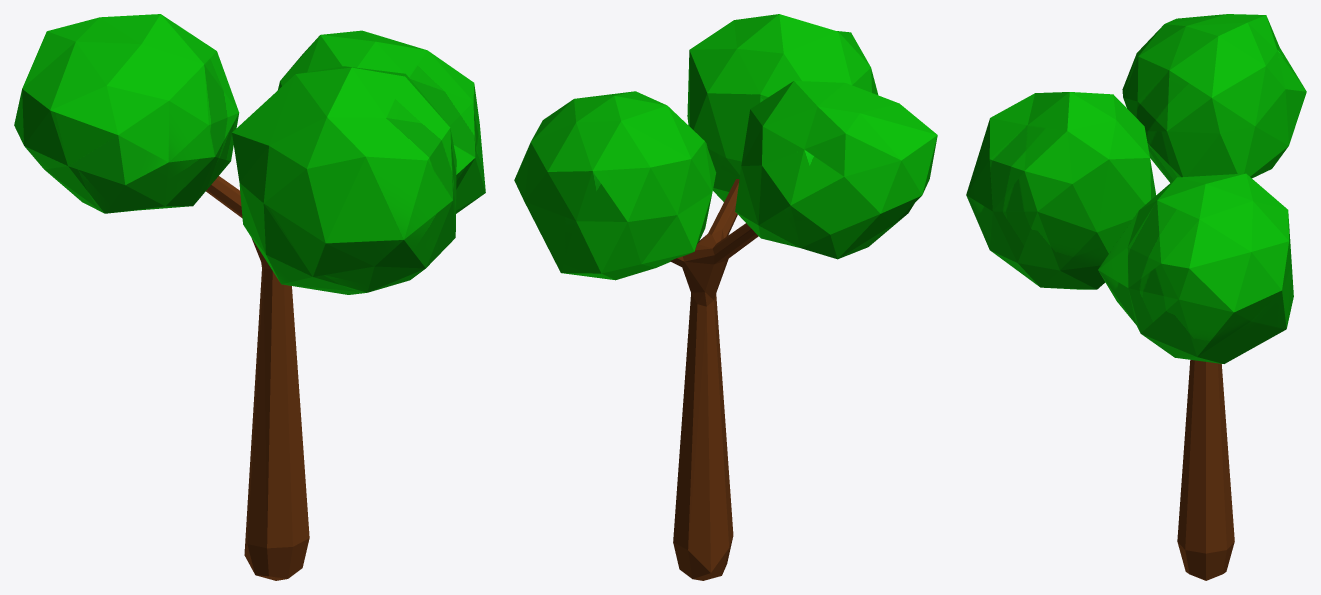
Rendered from tree7.fbx.
3 views of the same model, side by side, from view 1: azimuth 30°, elevation 25°; view 2: azimuth 150°, elevation 25°; view 3: azimuth 270°, elevation 25° (orthographic). The views are drawn at different scales.
Visible parts, largest first — view 1: Cube; view 2: Cube; view 3: Cube.
Part boxes in pixels (x1,y1,x2,y2): Cube: (14,14,485,580); Cube: (514,14,937,580); Cube: (966,14,1306,580).
Size of the model in its own units: 459 by 584 by 361.
1 material, 1 textured.
